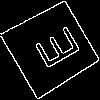E: (25, 24, 82, 77)
